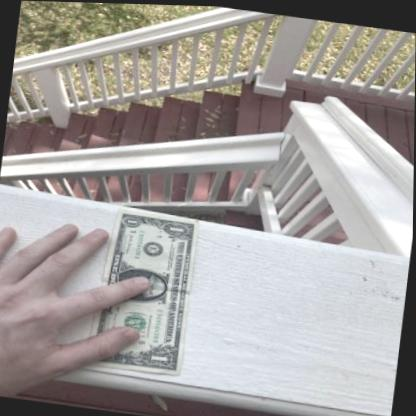one-front: (83, 208, 200, 374)
